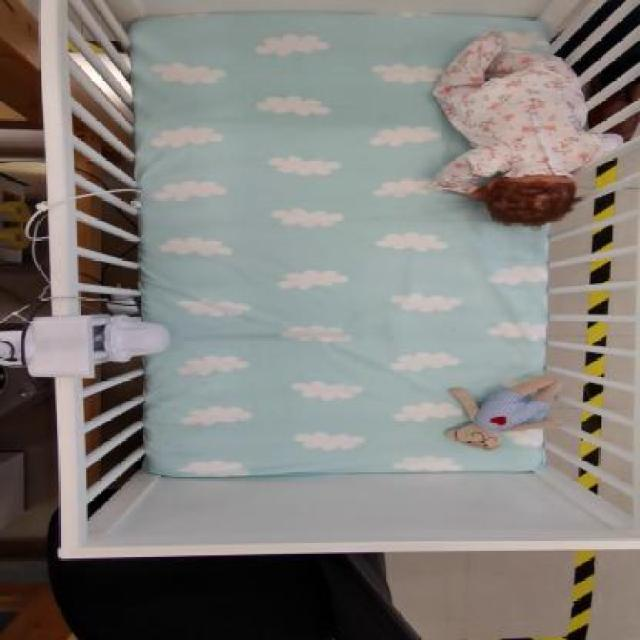baby: (428, 32, 624, 226)
